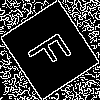F: (25, 25, 81, 75)
